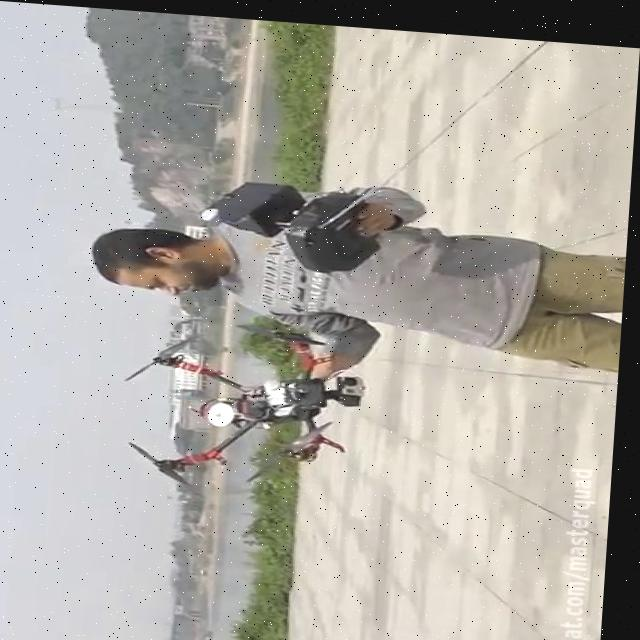drone: (117, 312, 376, 495)
